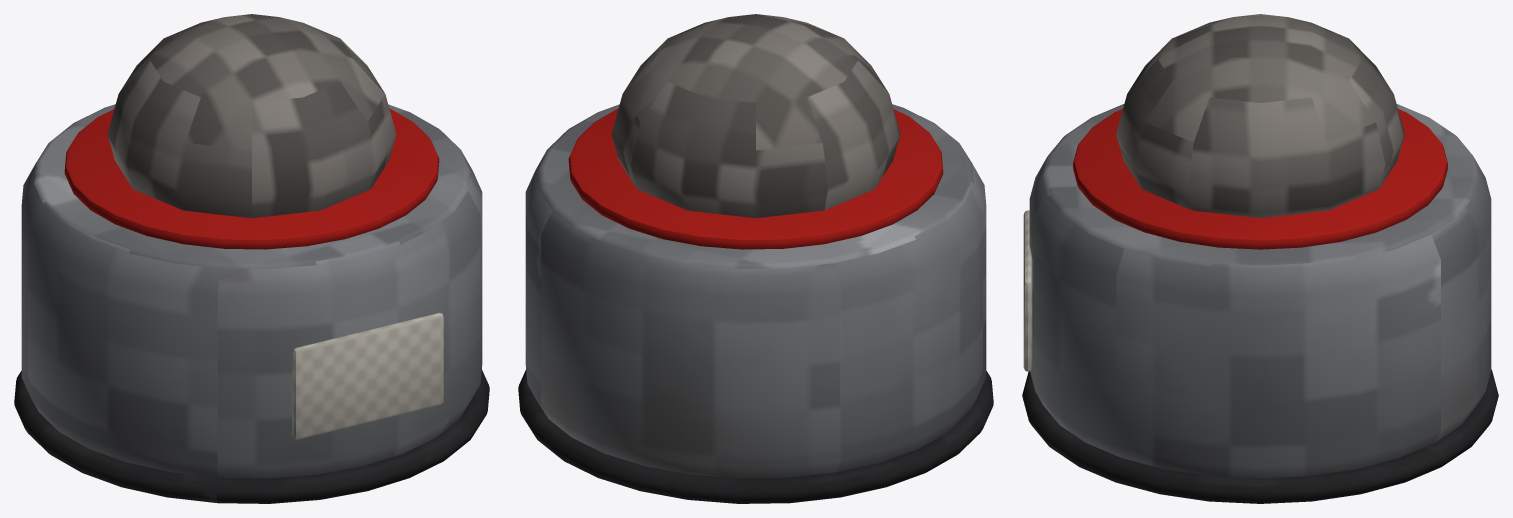
Rendered from prop_ammo_clip.glb.
3 views of the same model, side by side, from view 1: azimuth 30°, elevation 25°; view 2: azimuth 150°, elevation 25°; view 3: azimuth 270°, elevation 25° (orthographic).
Visible parts, largest first — view 1: prop_ammo_clip; view 2: prop_ammo_clip; view 3: prop_ammo_clip.
Boxes of the visible parts, left/top/right/bottom form: prop_ammo_clip: left=14, top=14, right=489, bottom=503; prop_ammo_clip: left=518, top=14, right=993, bottom=503; prop_ammo_clip: left=1022, top=14, right=1498, bottom=503.
Size of the model in its own units: 0.1651 by 0.1443 by 0.1651.
5 materials, 5 textured.
